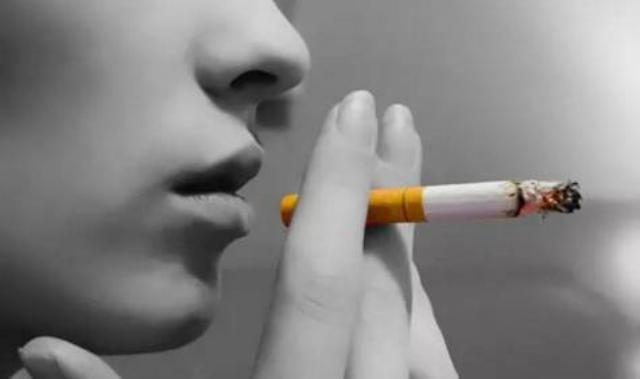Smoking: (269, 179, 586, 224)
